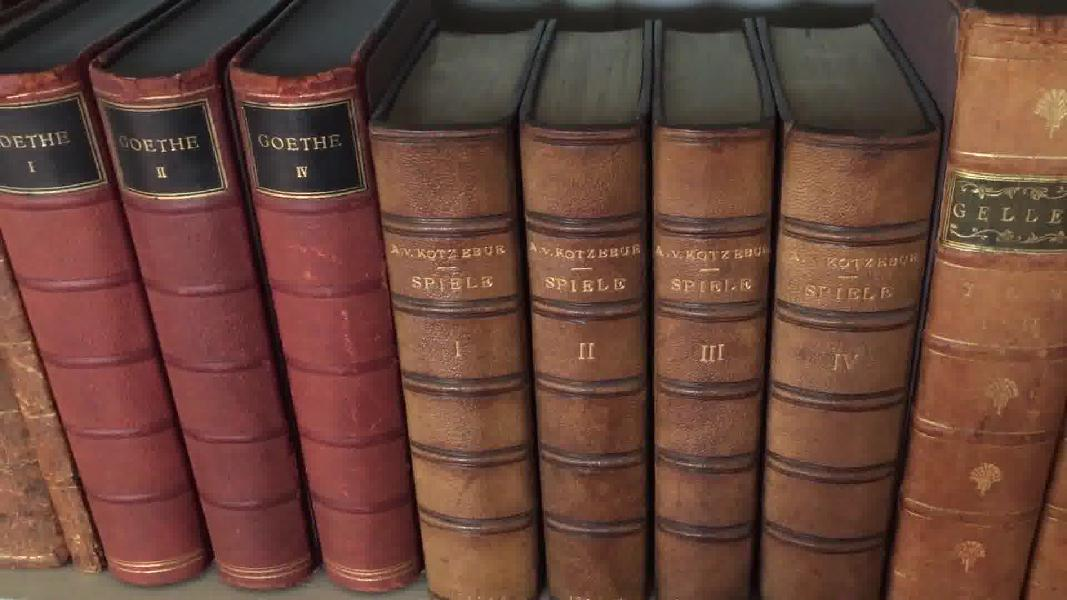Aa6-11_13: (1, 67, 447, 598)
Aa6-14_17: (361, 113, 924, 600)
